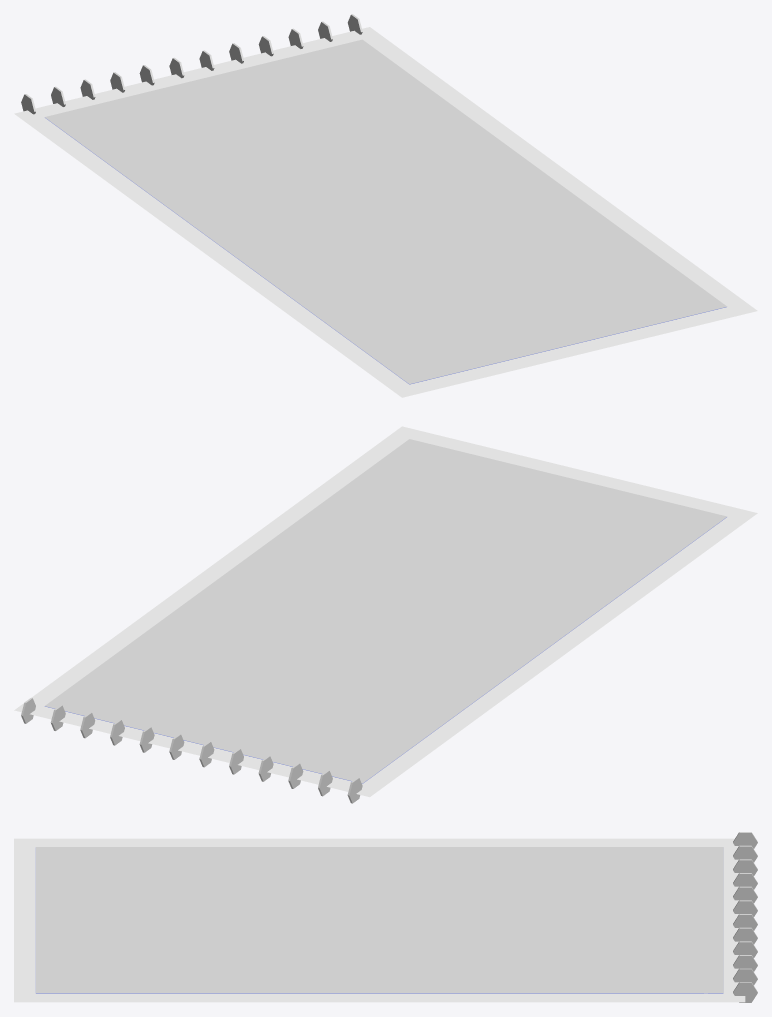
The model's file is Notepad.fbx.
3 renders of one model, top to bottom at view 1: azimuth 30°, elevation 25°; view 2: azimuth 150°, elevation 25°; view 3: azimuth 270°, elevation 25°, orthographic. The views are drawn at different scales.
Parts seen in each view (by area): view 1: Grid, NotepadSheet, NotepadRings; view 2: Grid, NotepadSheet, NotepadRings; view 3: Grid, NotepadSheet, NotepadRings.
Boxes of the visible parts, left/top/right/bottom form: Grid: left=45, top=39, right=726, bottom=383; NotepadSheet: left=14, top=27, right=757, bottom=397; NotepadRings: left=21, top=14, right=362, bottom=114; Grid: left=45, top=439, right=726, bottom=783; NotepadSheet: left=14, top=426, right=757, bottom=797; NotepadRings: left=21, top=698, right=362, bottom=803; Grid: left=36, top=847, right=723, bottom=992; NotepadSheet: left=14, top=838, right=745, bottom=1002; NotepadRings: left=733, top=832, right=757, bottom=1002.
Bounding box in the file's own units: 3600 × 202 × 6917.
